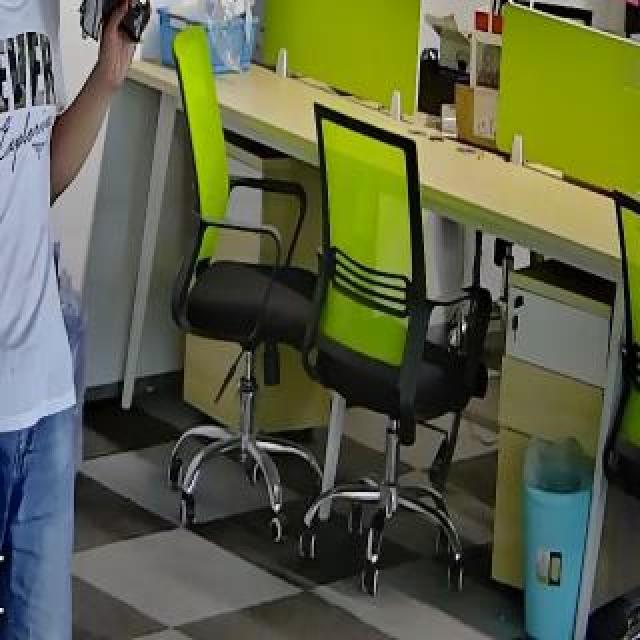Guns: (60, 0, 166, 84)
